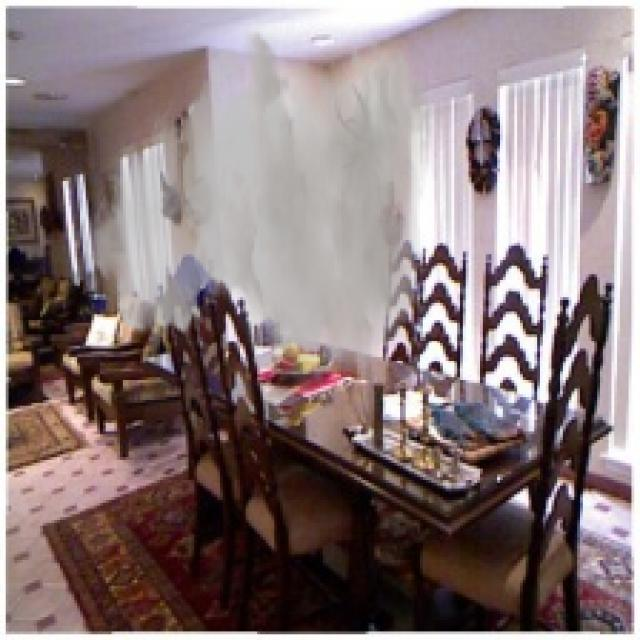Smoke: (71, 29, 432, 418)
